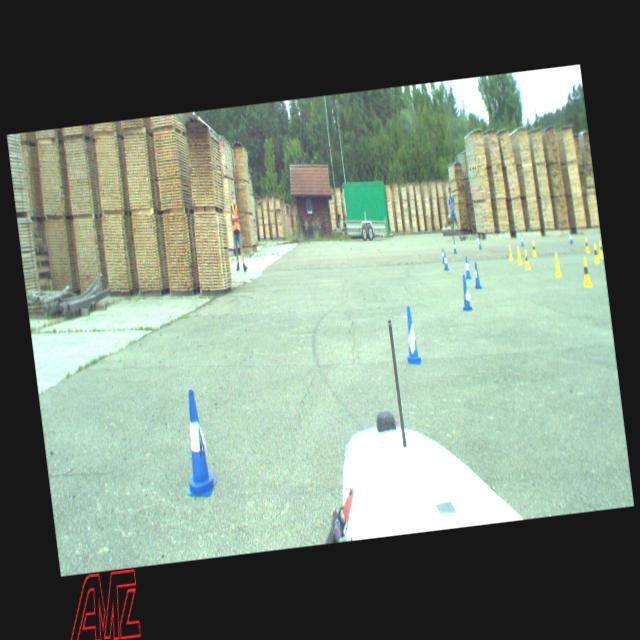blue_cone: (175, 388, 218, 499), (399, 304, 422, 365), (459, 273, 471, 311), (472, 262, 481, 288), (462, 255, 470, 278), (442, 252, 448, 270), (518, 233, 524, 246), (440, 248, 445, 262), (452, 238, 456, 254), (478, 238, 482, 248), (569, 232, 572, 243)
yellow_cone: (580, 256, 592, 287), (552, 251, 562, 276), (522, 249, 530, 269), (592, 244, 598, 262), (516, 246, 522, 264), (530, 240, 536, 256), (584, 238, 590, 252), (507, 244, 512, 260), (598, 241, 603, 257)
